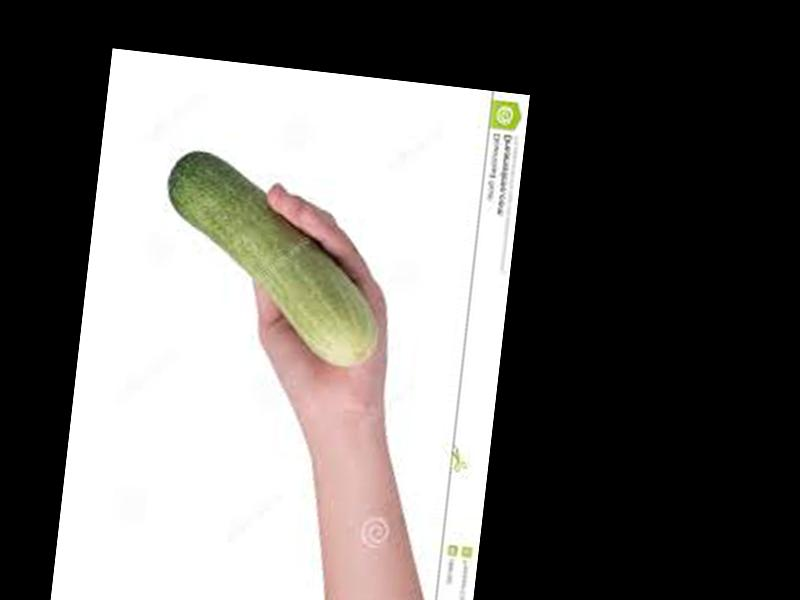Cucumber: (151, 151, 393, 369)
